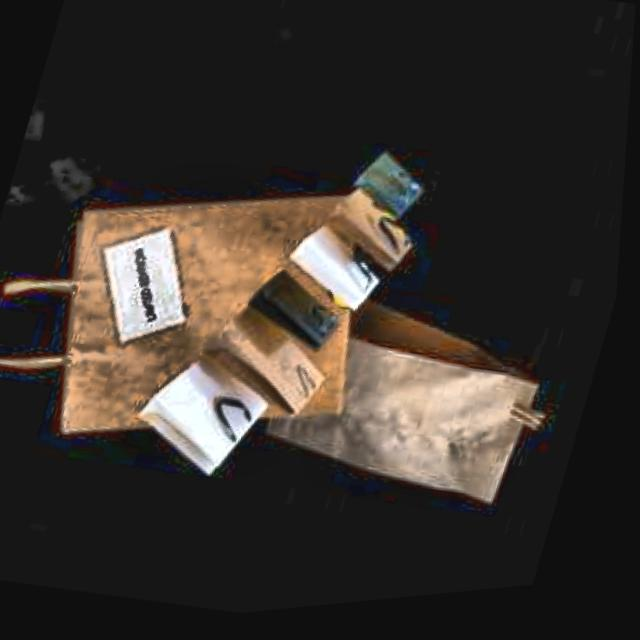Paper-bag: (0, 62, 446, 541), (234, 284, 571, 550)
